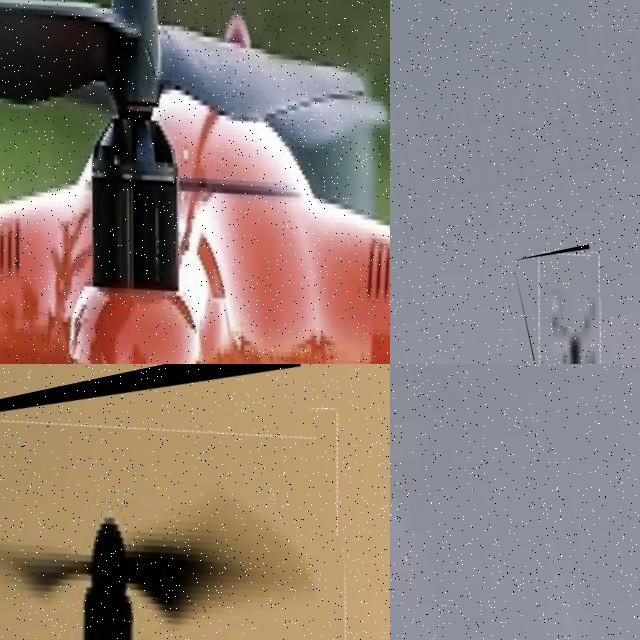drone: (0, 0, 390, 364), (0, 364, 390, 640), (512, 244, 626, 364)
